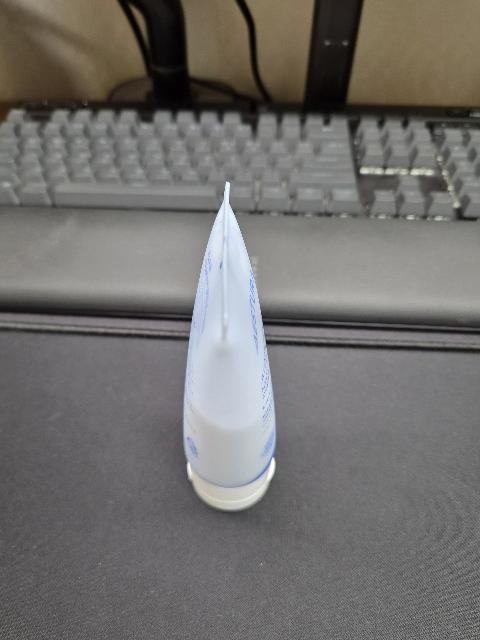handcream: (183, 181, 276, 510)
